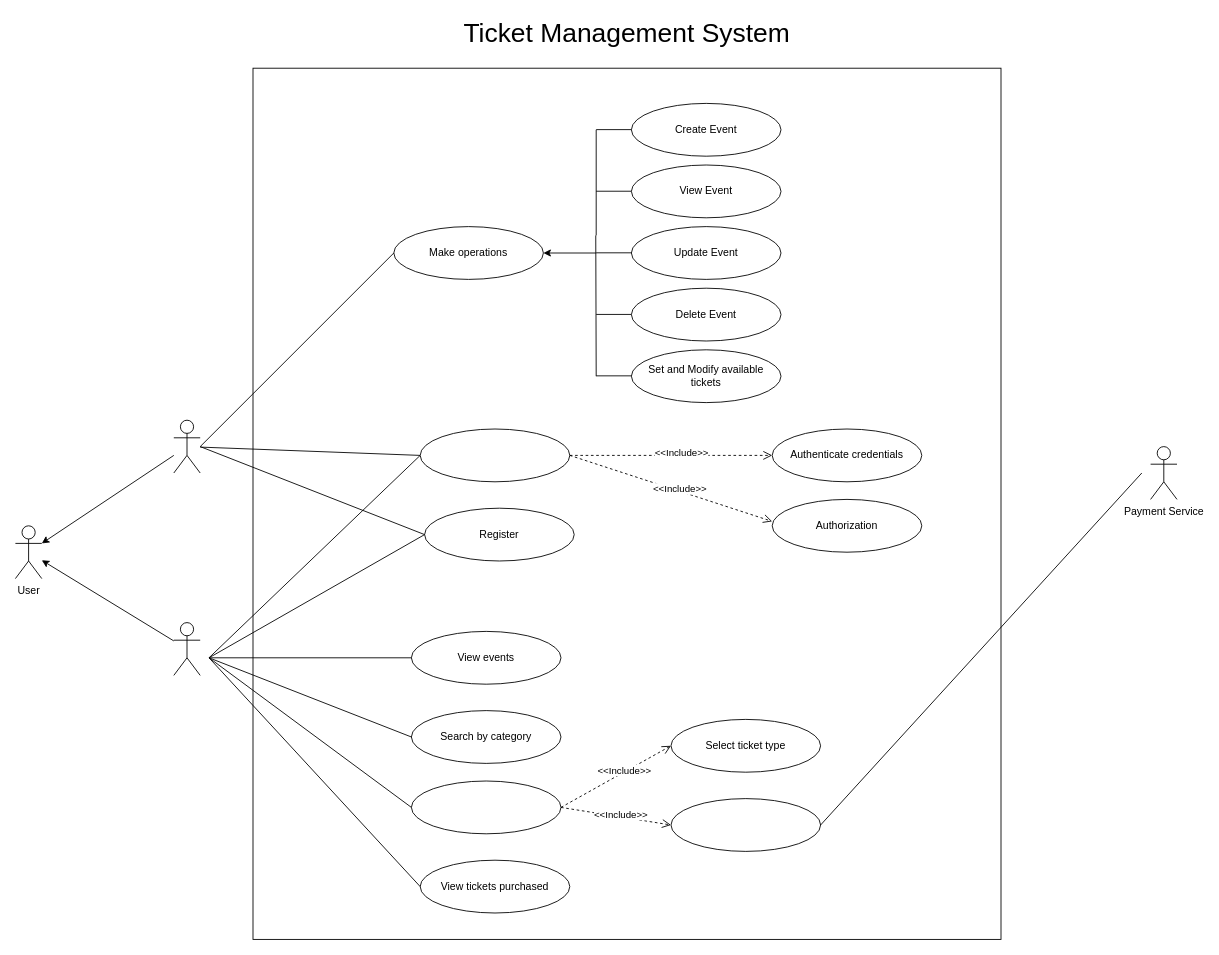
This 1219x955 diagram has some shape labels left out. The box of each missing label's shape, as (x1, y1, x2, y2) in pixels:
Admin: (173, 419, 200, 473)
Buy ticket: (411, 780, 561, 834)
Fan: (173, 622, 200, 675)
Login: (419, 428, 570, 482)
Select payment method: (670, 798, 821, 851)
